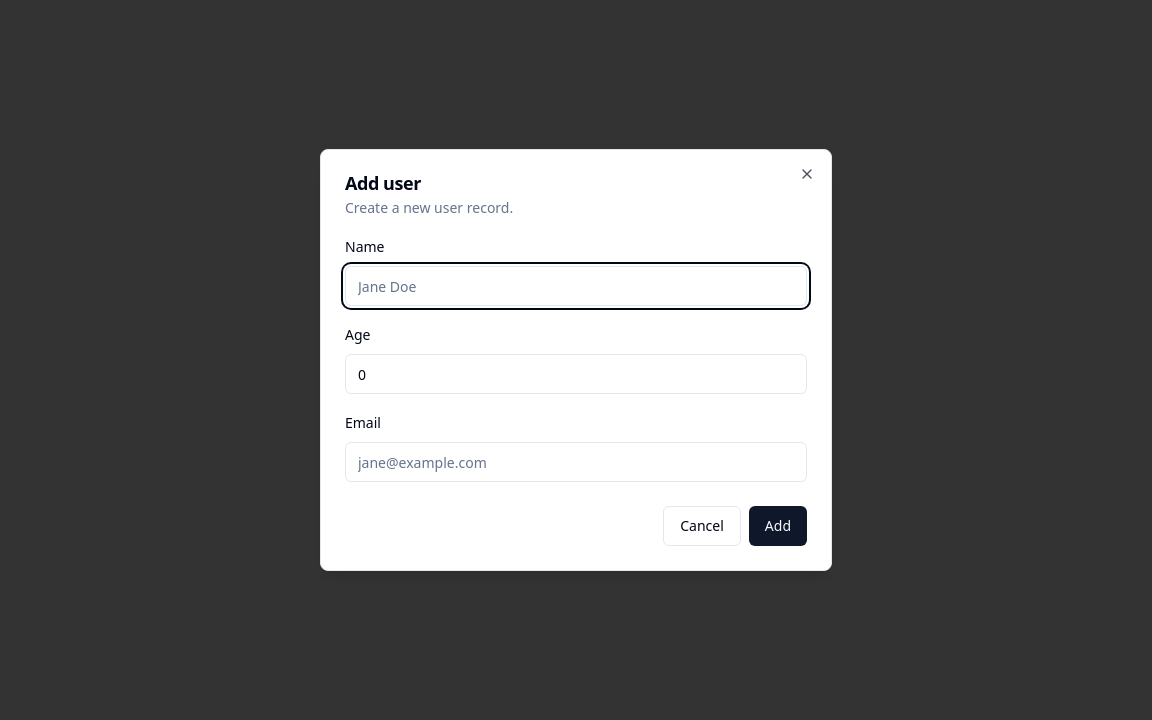
Test: AddEditDialog › BR-C-03: blank-name submission shows inline Zod error
This screenshot has width=1152, height=720.
# Submit immediately — empty form should fail validation.
Click the button "Add" at (778, 526), box 749,506 -> 807,546
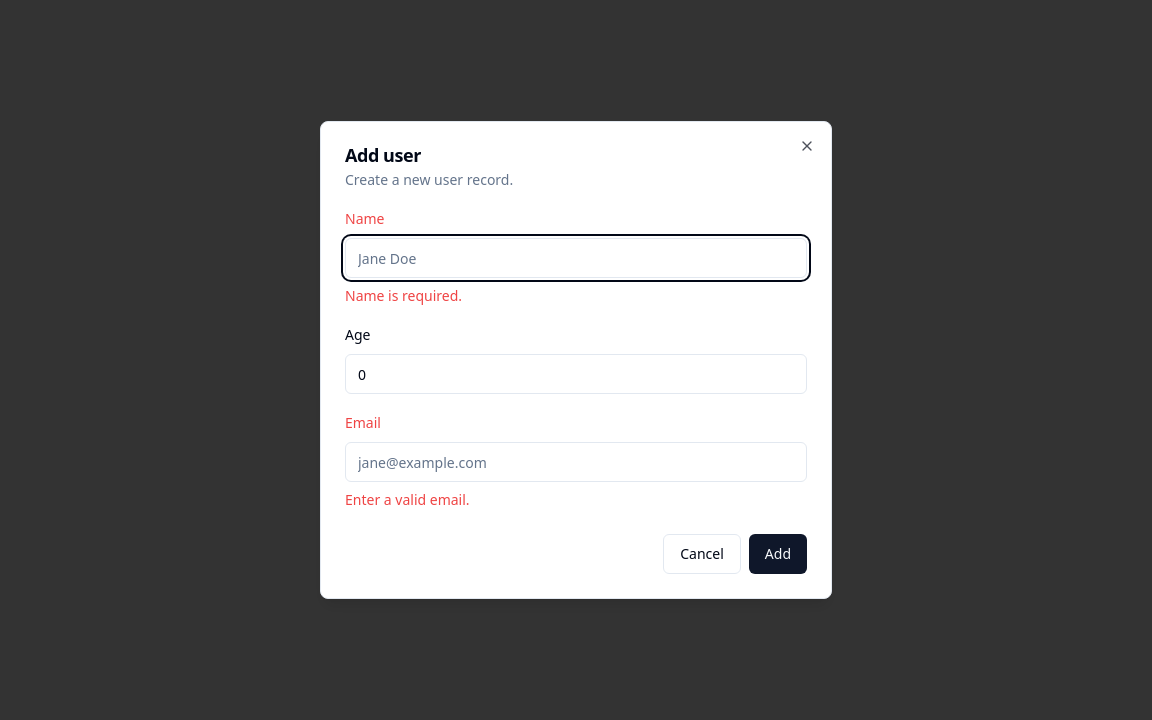
Now the text "Name is required." is shown, box 345,286 -> 462,305
